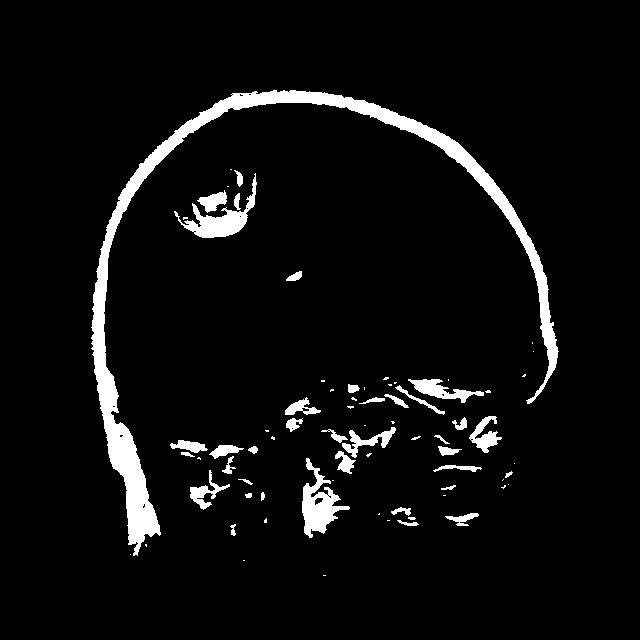Brain-Tumor: (167, 163, 275, 247)
